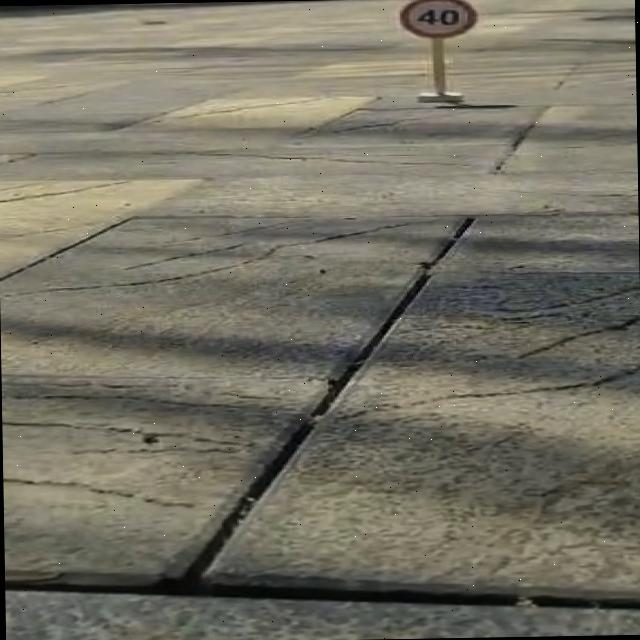Speed40: (395, 0, 483, 42)
